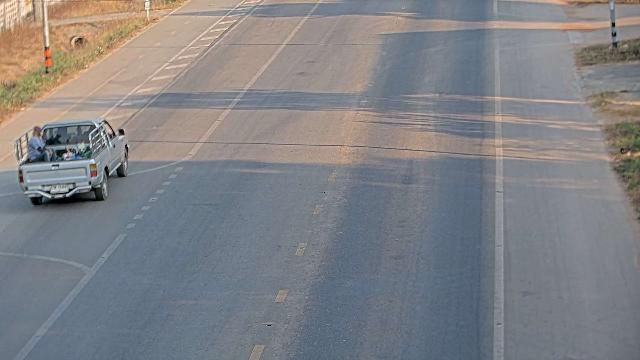pickup-truck: (13, 117, 129, 206)
